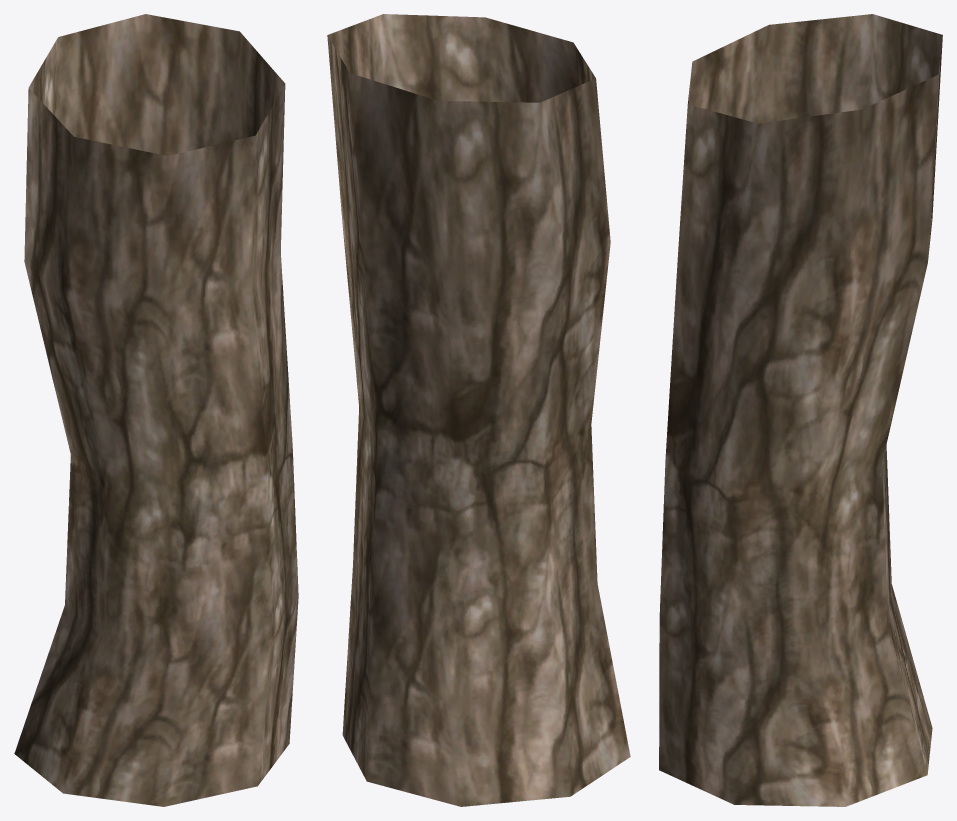
File: EKH_CAVERNS_PS_CA_CYLINDER09.fbx
3 renders of one model, left to right at view 1: azimuth 30°, elevation 25°; view 2: azimuth 150°, elevation 25°; view 3: azimuth 270°, elevation 25°, orthographic. The views are drawn at different scales.
Visible parts, largest first — view 1: EKH_CAVERNS_PS_CA_CYLINDER09; view 2: EKH_CAVERNS_PS_CA_CYLINDER09; view 3: EKH_CAVERNS_PS_CA_CYLINDER09.
Boxes of the visible parts, <box> form: EKH_CAVERNS_PS_CA_CYLINDER09: <box>14,14,298,806</box>; EKH_CAVERNS_PS_CA_CYLINDER09: <box>327,14,630,806</box>; EKH_CAVERNS_PS_CA_CYLINDER09: <box>659,14,942,806</box>.
Bounding box in the file's own units: 33069 × 91474 × 33326.
Materials: 1 (1 with a texture image).
